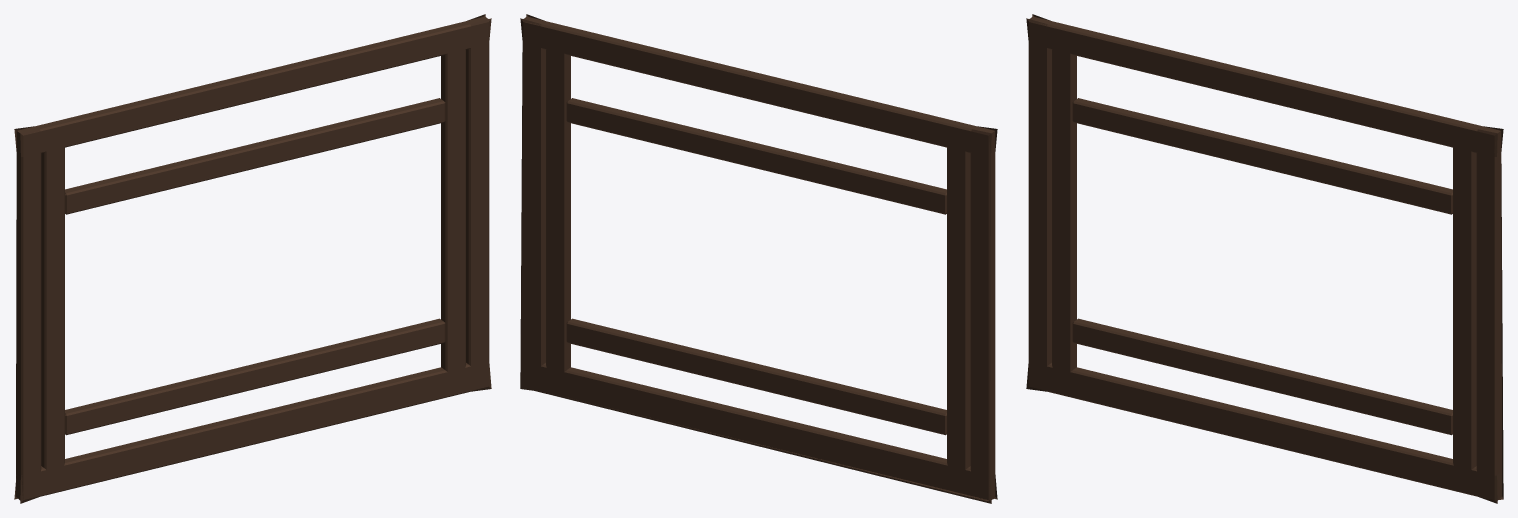
File: timber_shop_w16.fbx
The picture shows the model from 3 angles, left to right: view 1: azimuth 30°, elevation 25°; view 2: azimuth 150°, elevation 25°; view 3: azimuth 330°, elevation 25°; orthographic projection.
Visible parts, largest first — view 1: timber_shop_w16; view 2: timber_shop_w16; view 3: timber_shop_w16.
Boxes of the visible parts, bbox=[...] form: timber_shop_w16: bbox=[14, 14, 491, 503]; timber_shop_w16: bbox=[520, 14, 997, 503]; timber_shop_w16: bbox=[1026, 14, 1503, 503].
Size of the model in its own units: 1610 by 1210 by 35.
